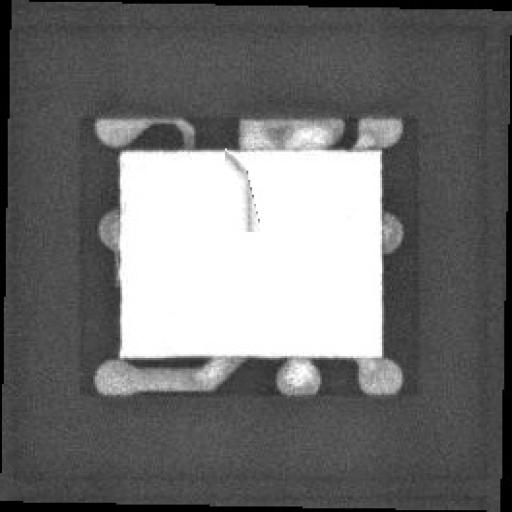DIE_INK: (213, 153, 245, 239)
